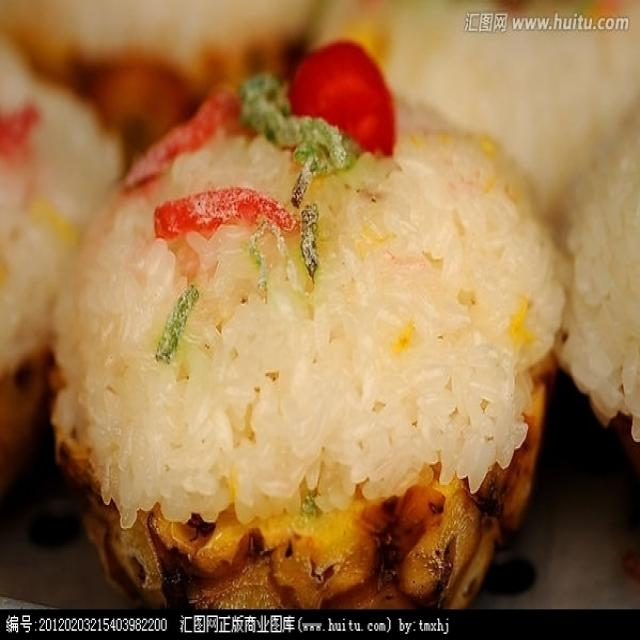米饭主食: (21, 20, 612, 623)
